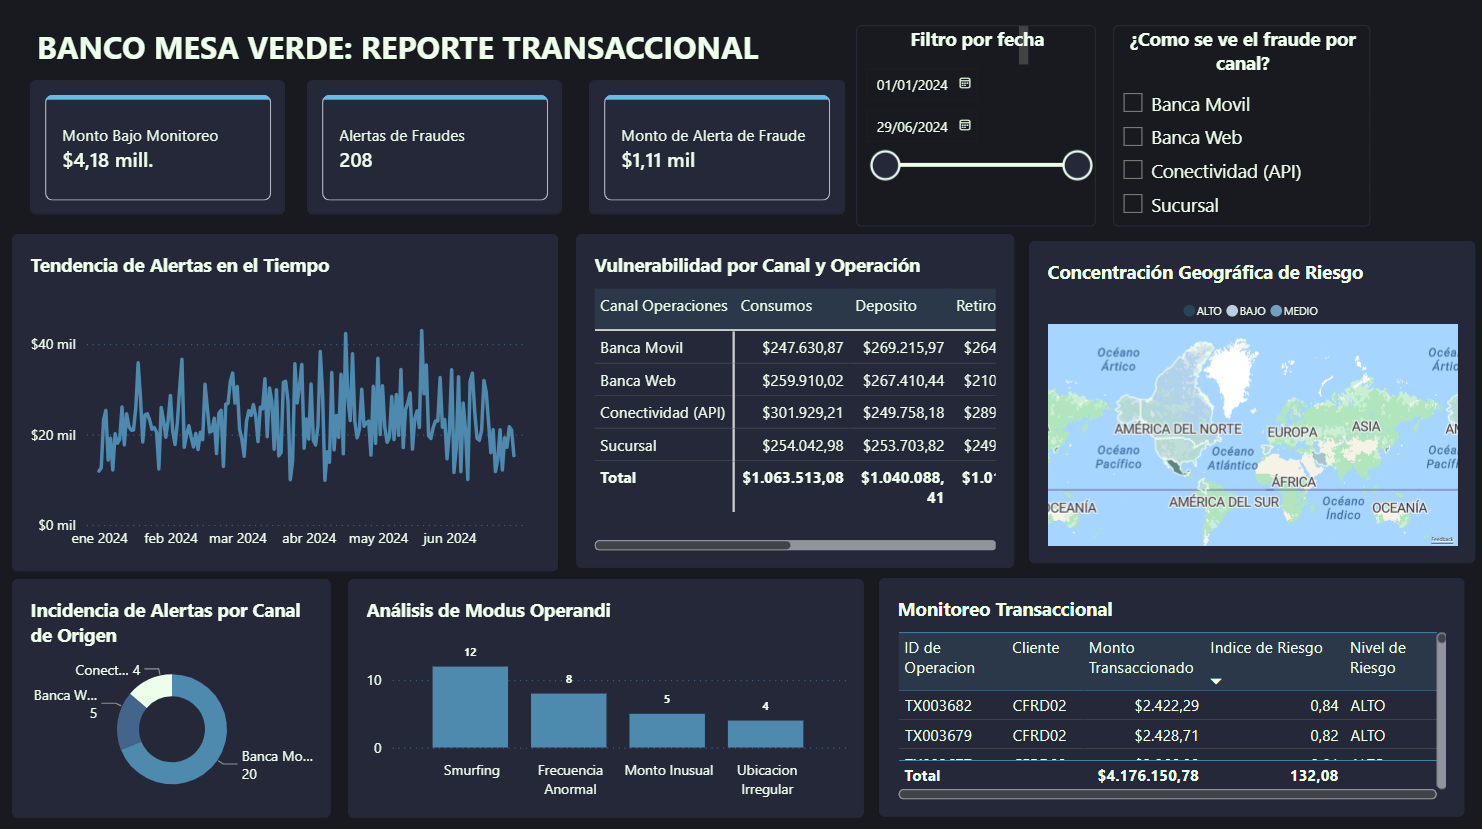

This screenshot's page, from the dashboard's own definition file:
{"tool":"powerbi","page":{"name":"Reporte Transaccional","canvas":[1280,720],"ordinal":0},"visuals":[{"type":"cardVisual","fields":{"Data":["Sum(fact_transacciones.monto)"]},"box":[27.5,70,220,116.2],"z":0},{"type":"donutChart","title":"Incidencia de Alertas por Canal de Origen","fields":{"Category":["fact_transacciones.Canal2"],"Y":["Sum(fact_transacciones.es_fraude)"]},"box":[12.5,500,275,206.2],"z":1000},{"type":"tableEx","title":"Monitoreo Transaccional","fields":{"Values":["fact_transacciones.transaction_id","fact_transacciones.cliente_id","Sum(fact_transacciones.monto)","Sum(fact_transacciones.risk_score_final)","fact_transacciones.nivel_riesgo"]},"box":[760,499.1,504.5,206.4],"z":2000},{"type":"cardVisual","fields":{"Data":["CountNonNull(dim_clientes.total_fraudes)"]},"box":[266.2,70,220,116.2],"z":3000},{"type":"azureMap","title":"Concentración Geográfica de Riesgo","fields":{"Category":["fact_transacciones.pais_destino"],"Series":["fact_transacciones.nivel_riesgo"]},"box":[889.1,209.1,385.5,278.2],"z":4000},{"type":"cardVisual","fields":{"Data":["Avg(fact_transacciones.monto)"]},"box":[510,70,220.9,116.4],"z":5000},{"type":"lineChart","title":"Tendencia de Alertas en el Tiempo","fields":{"Y":["Sum(fact_transacciones.monto)"],"Category":["fact_transacciones.fecha_date"]},"box":[11.8,202.7,470.9,290.9],"z":6000},{"type":"textbox","box":[33.6,22.7,855.5,34.5],"z":7000},{"type":"pivotTable","title":"Vulnerabilidad por Canal y Operación","fields":{"Rows":["fact_transacciones.Canal2"],"Columns":["fact_transacciones.Tipologia Operacion"],"Values":["Sum(fact_transacciones.monto)"]},"box":[498.2,202.7,378.2,288.2],"z":8000},{"type":"clusteredColumnChart","title":"Análisis de Modus Operandi","fields":{"Y":["CountNonNull(fact_transacciones.transaction_id)"],"Category":["fact_transacciones.MODUS OPERANDI"]},"box":[301.8,500,444.5,206.4],"z":9000},{"type":"slicer","title":"Filtro por fecha","fields":{"Values":["fact_transacciones.fecha"]},"box":[740,22.7,207.3,173.6],"z":10000},{"type":"slicer","title":"¿Como se ve el fraude por canal?","fields":{"Values":["fact_transacciones.Canal2"]},"box":[961.8,22.7,221.8,173.6],"z":11000}]}

Visuals, with their boxes in screenshot pixels (x1, y1, x2, y2), scaled from the page's 1280x720 canvas onto the 1482x829 screenshot:
cardVisual - Sum(fact_transacciones.monto): [left=32, top=81, right=287, bottom=214]
"Incidencia de Alertas por Canal de Origen" donutChart: [left=14, top=576, right=333, bottom=813]
"Monitoreo Transaccional" tableEx: [left=880, top=575, right=1464, bottom=812]
cardVisual - CountNonNull(dim_clientes.total_fraudes): [left=308, top=81, right=563, bottom=214]
"Concentración Geográfica de Riesgo" azureMap: [left=1029, top=241, right=1476, bottom=561]
cardVisual - Avg(fact_transacciones.monto): [left=590, top=81, right=846, bottom=215]
"Tendencia de Alertas en el Tiempo" lineChart: [left=14, top=233, right=559, bottom=568]
textbox: [left=39, top=26, right=1029, bottom=66]
"Vulnerabilidad por Canal y Operación" pivotTable: [left=577, top=233, right=1015, bottom=565]
"Análisis de Modus Operandi" clusteredColumnChart: [left=349, top=576, right=864, bottom=813]
"Filtro por fecha" slicer: [left=857, top=26, right=1097, bottom=226]
"¿Como se ve el fraude por canal?" slicer: [left=1114, top=26, right=1370, bottom=226]
